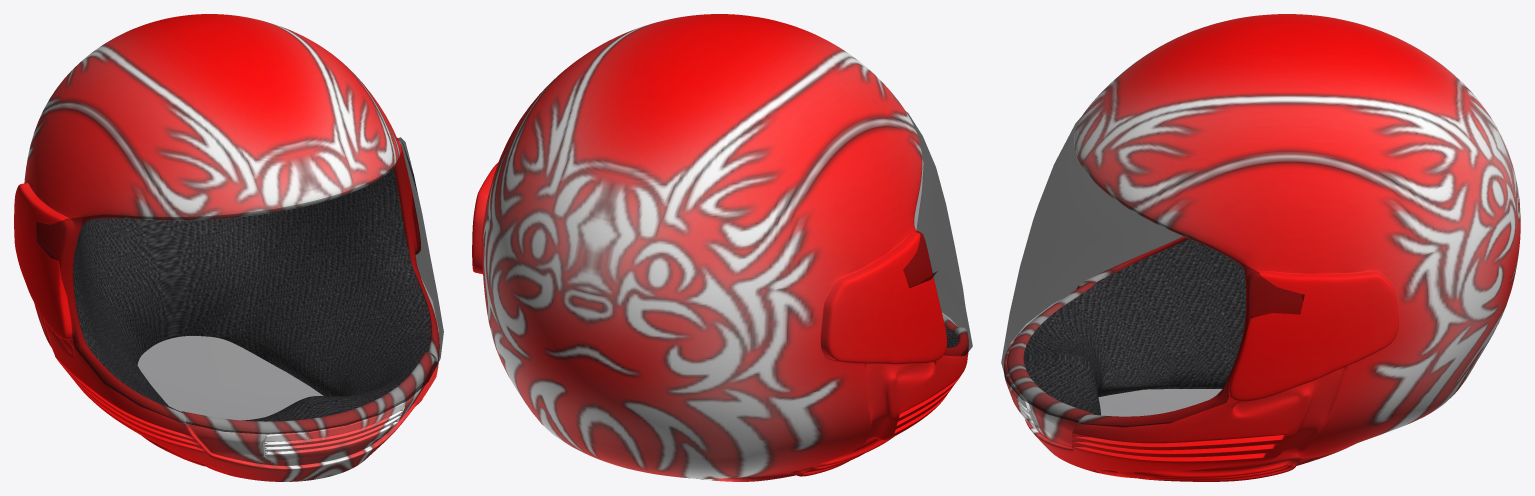
Rendered from helmet.glb.
3 views of the same model, side by side, from view 1: azimuth 30°, elevation 25°; view 2: azimuth 150°, elevation 25°; view 3: azimuth 270°, elevation 25° (orthographic). The views are drawn at different scales.
Visible parts, largest first — view 1: Sphere, Sphere.001, Sphere.004; view 2: Sphere, Sphere.001; view 3: Sphere, Sphere.001, Sphere.004.
Boxes of the visible parts, bbox=[...] form: Sphere: bbox=[14, 14, 439, 481]; Sphere.001: bbox=[36, 137, 443, 434]; Sphere.004: bbox=[73, 168, 430, 421]; Sphere: bbox=[472, 14, 968, 481]; Sphere.001: bbox=[903, 111, 972, 356]; Sphere: bbox=[1004, 14, 1520, 481]; Sphere.001: bbox=[1001, 117, 1304, 427]; Sphere.004: bbox=[1023, 239, 1245, 415].
Size of the model in its own units: 8.51 by 8.11 by 9.59.
3 materials, 2 textured.
